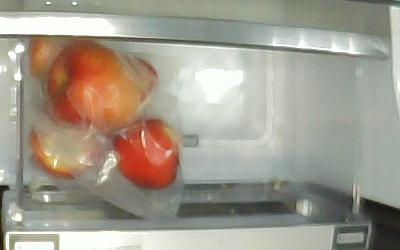apple_vinyl: (46, 40, 140, 128), (114, 116, 179, 191), (30, 121, 102, 179), (29, 40, 61, 75)
